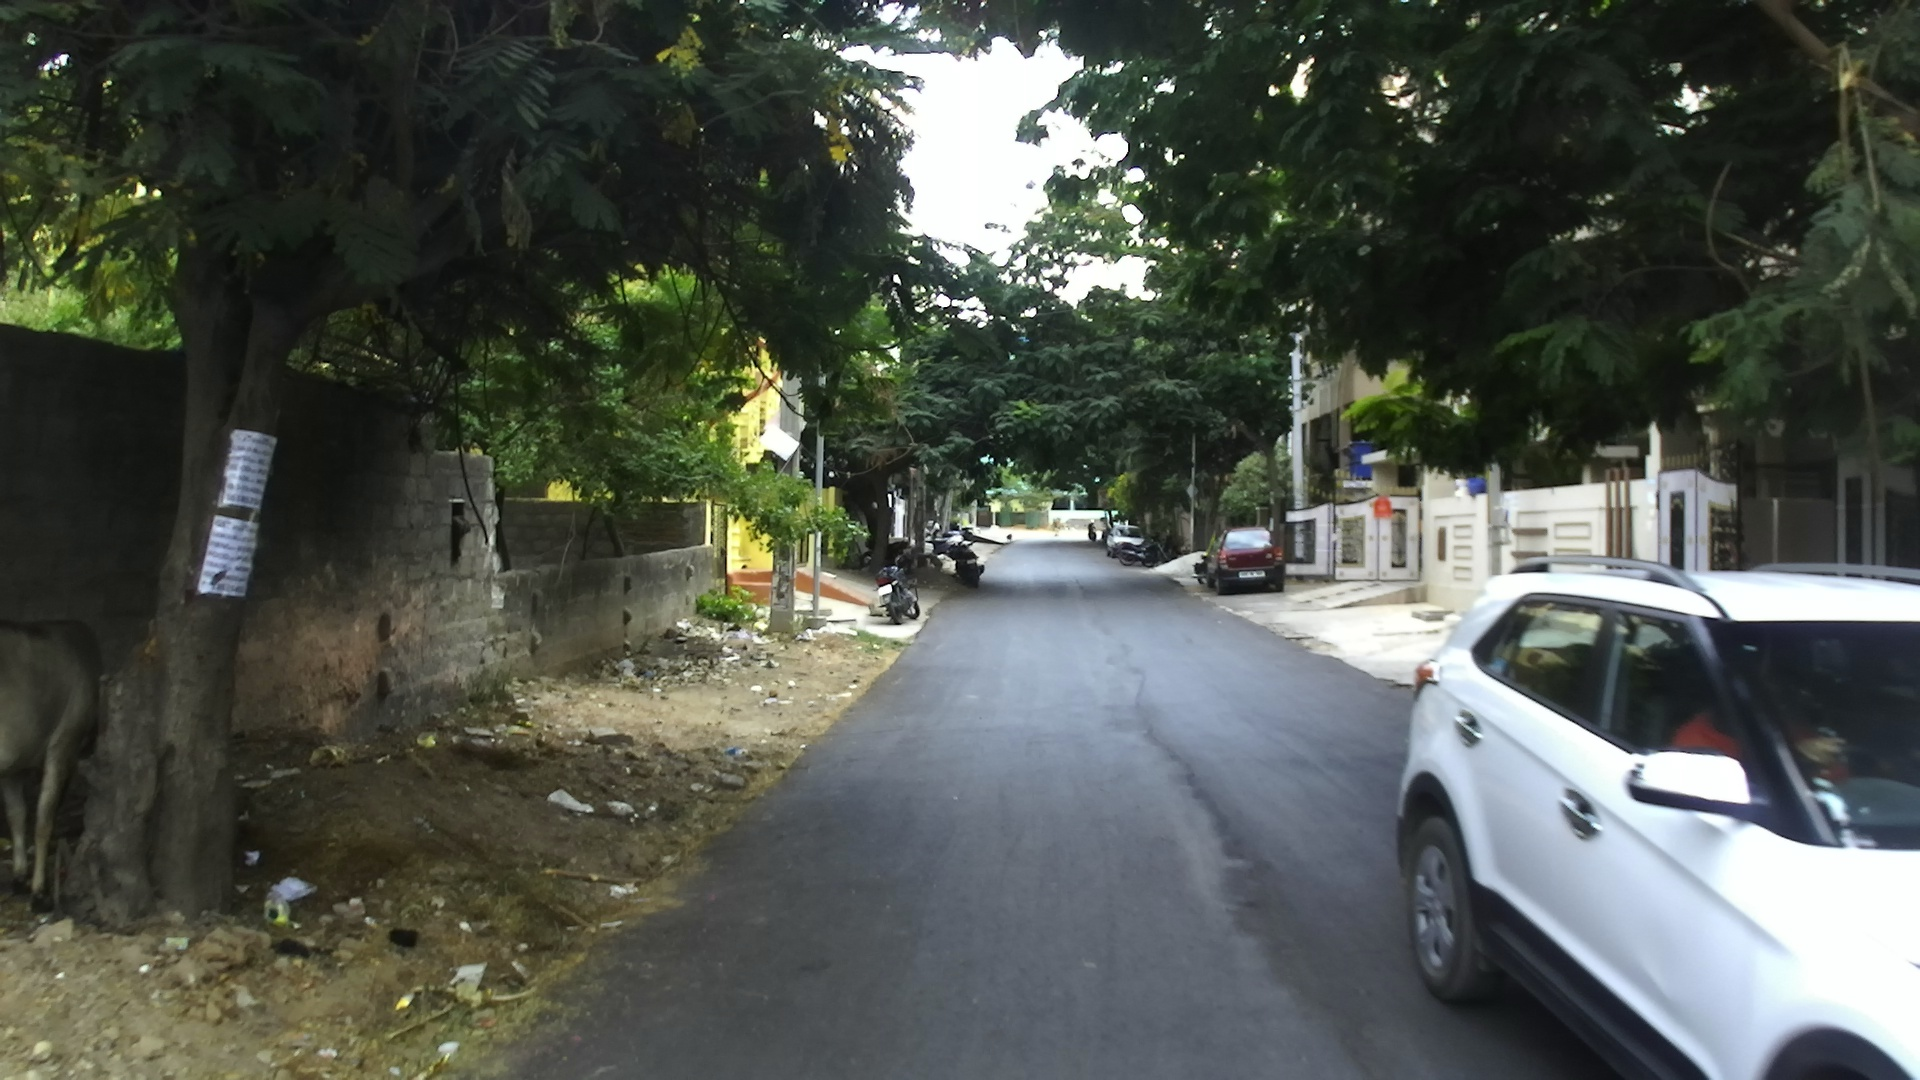vehicle: (1393, 555, 1919, 1073), (1211, 527, 1284, 593), (1104, 525, 1149, 566), (1101, 520, 1145, 559)
